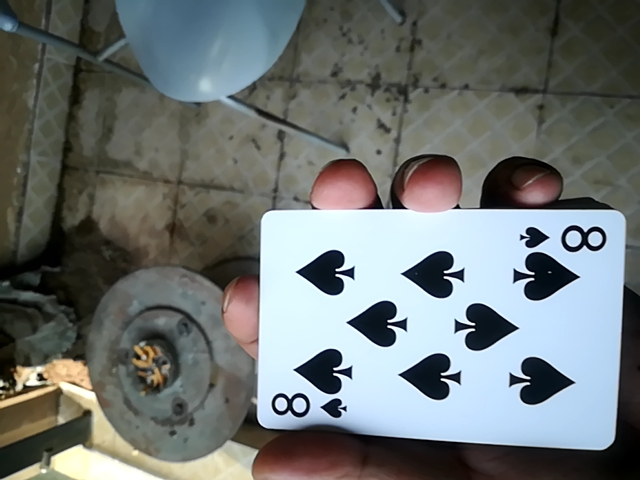ht 8: (247, 210, 638, 450)
